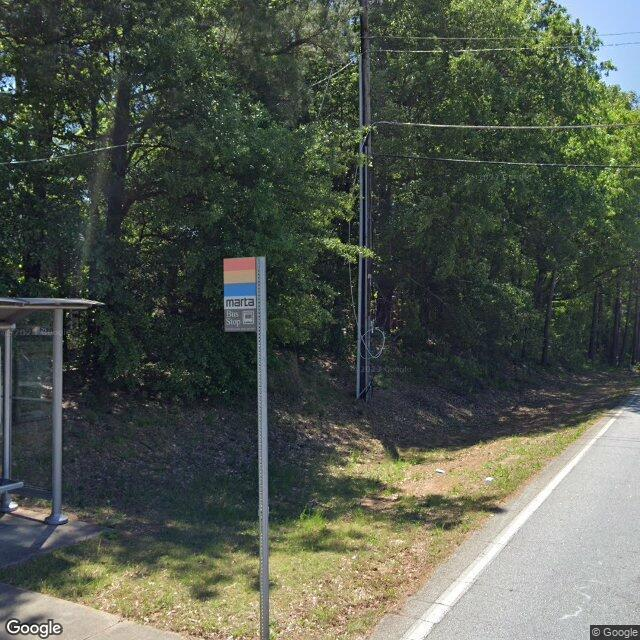seating: (0, 476, 26, 514)
shelter: (0, 294, 107, 532)
